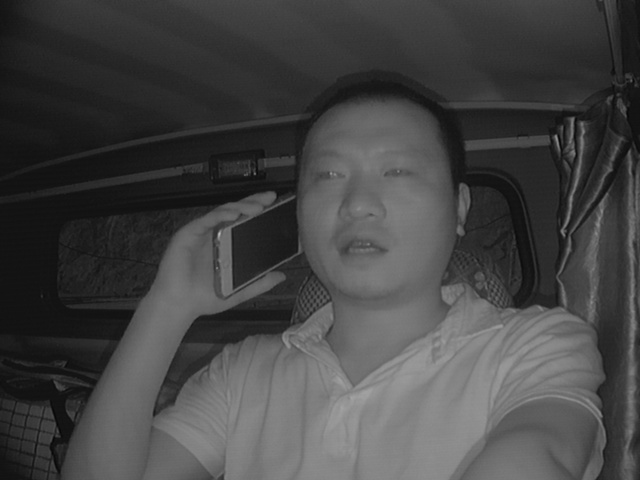hand: (146, 188, 281, 307)
